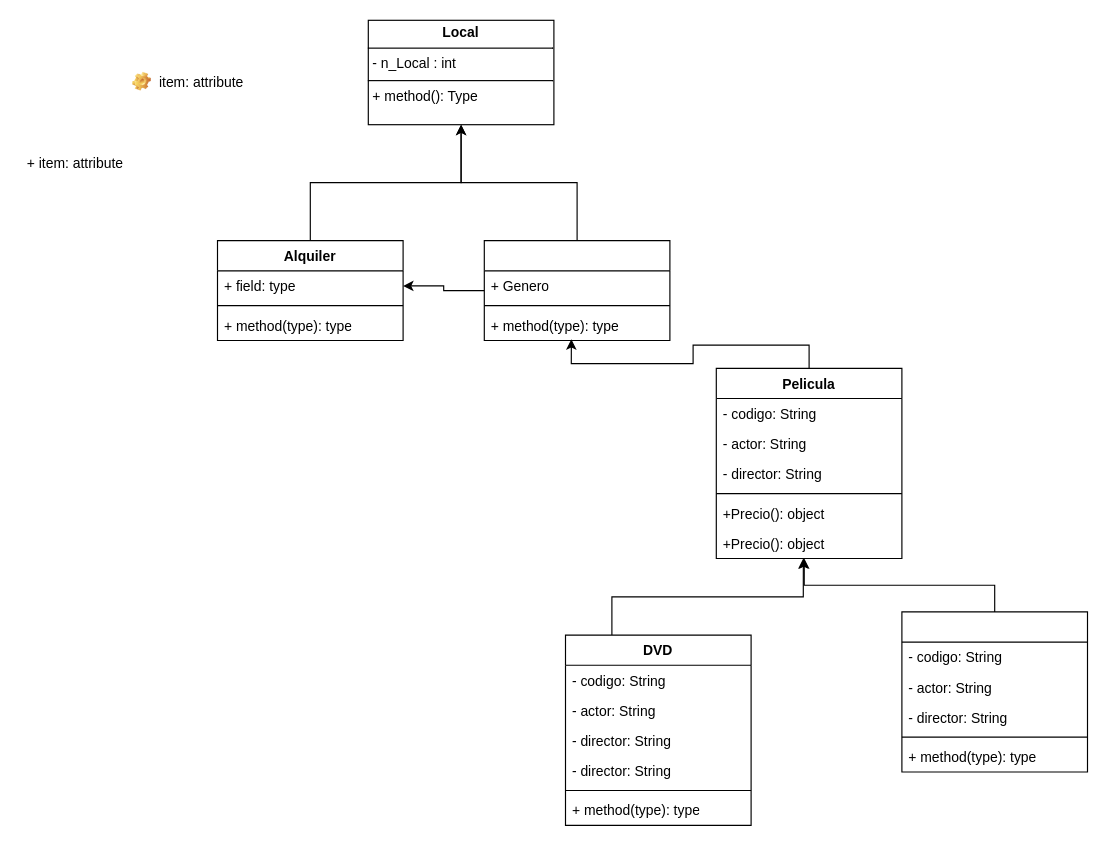
Image size: 1108x849. Some labels were removed from this diagram. Here are the shapes that lost their labels. From the top down, the box of each, then its label:
(483, 240, 670, 340): Catalogo
(901, 611, 1088, 772): VHS
